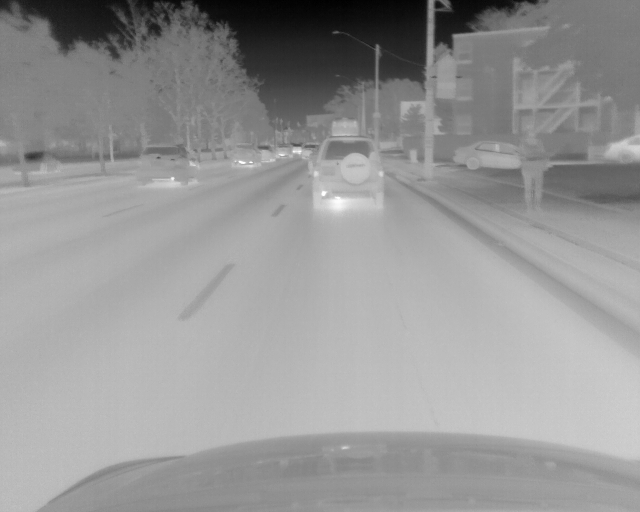car: (309, 136, 383, 213), (138, 142, 201, 187), (450, 140, 520, 173), (606, 133, 640, 164), (230, 143, 259, 169), (258, 143, 275, 163), (275, 144, 291, 161), (303, 144, 315, 163), (289, 144, 301, 158)
people: (519, 125, 547, 216)
